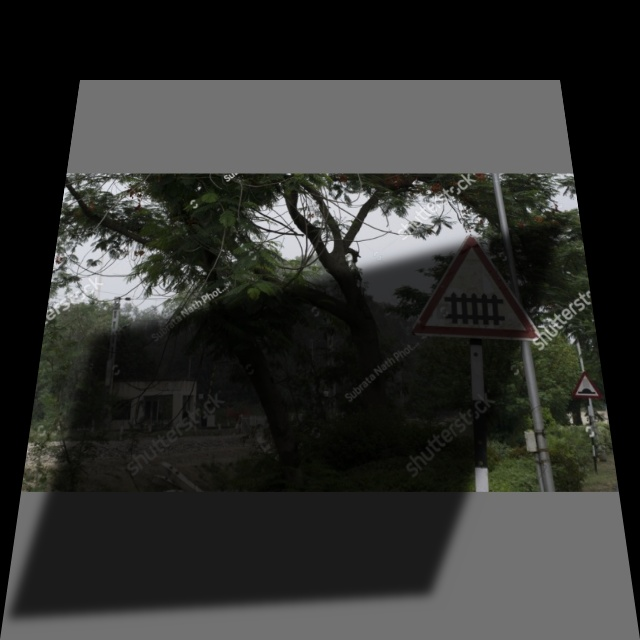Guarded_Level_Crossing: (411, 232, 537, 340)
